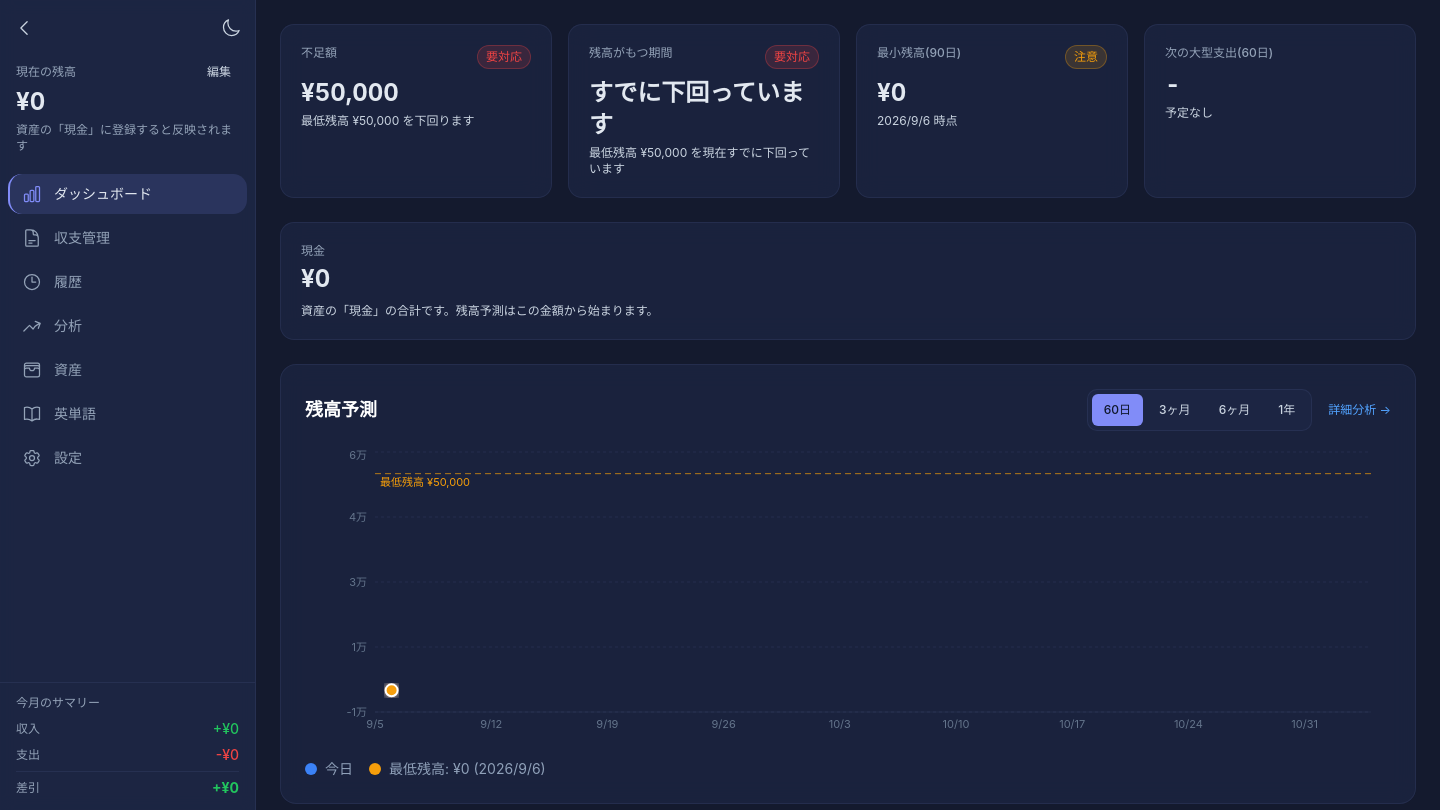
Test case: a screen whose chunk cannot be fetched › says so instead of blanking the app
The image size is (1440, 810).
Click the link "英単語". click: (59, 414)
box: [22,404,96,424]
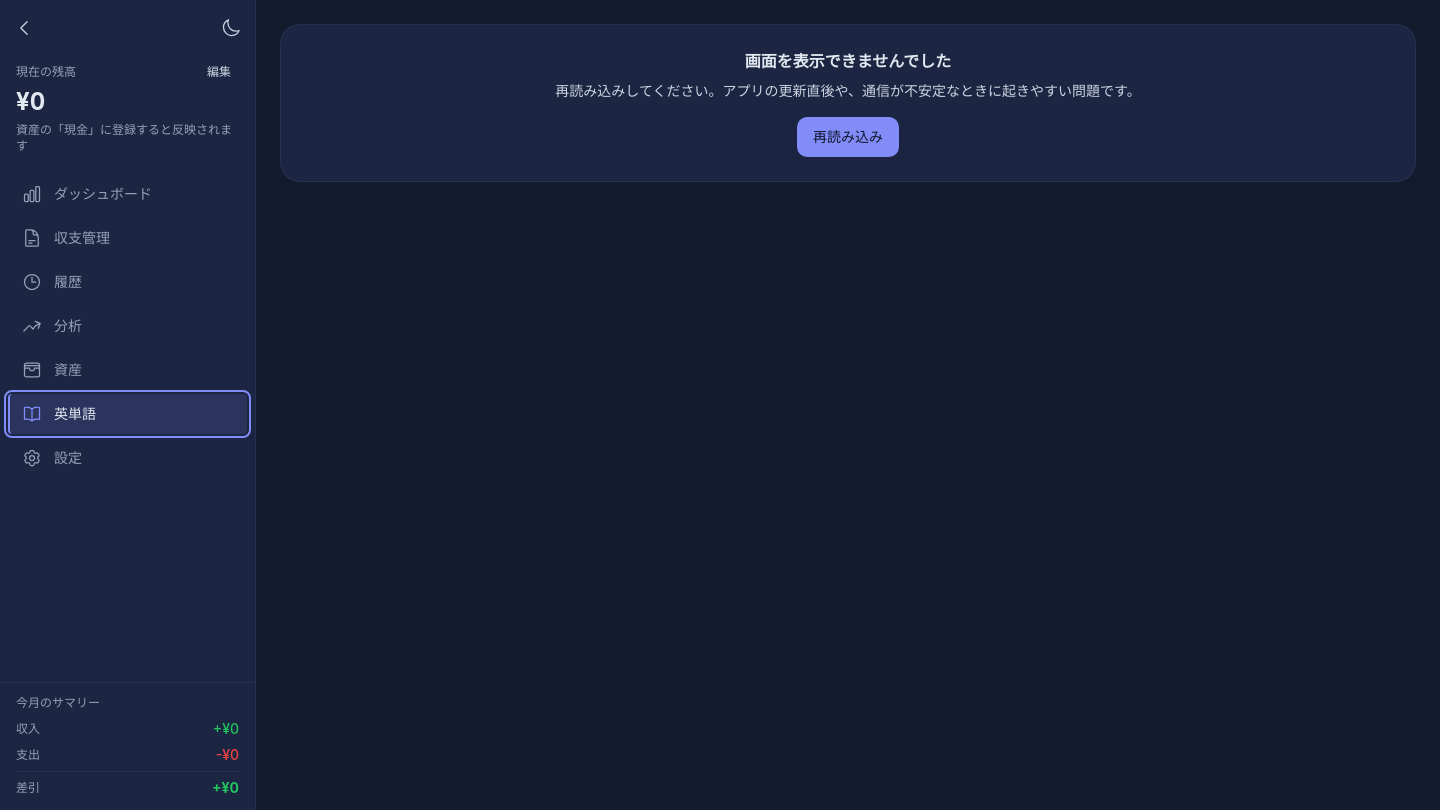
Expected: the link "分析" is shown, [22,316,82,336]
Expected: the message shows "画面を表示できませんでした", [745,51,951,71]
